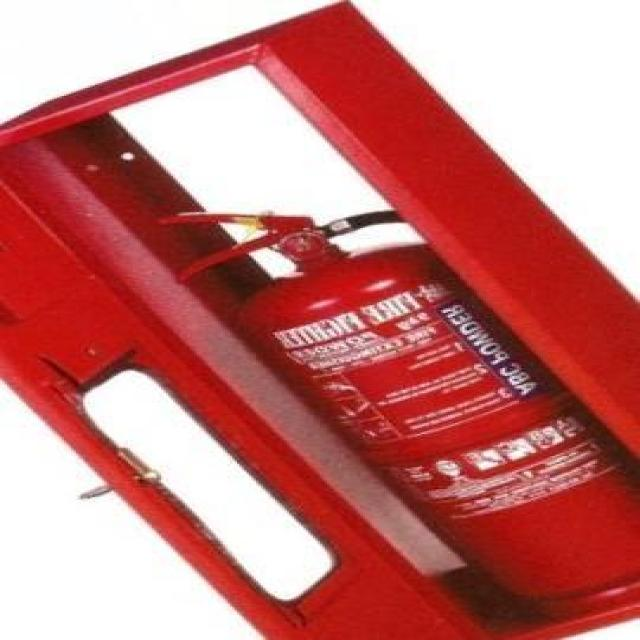fire_extinguisher: (140, 203, 638, 627)
